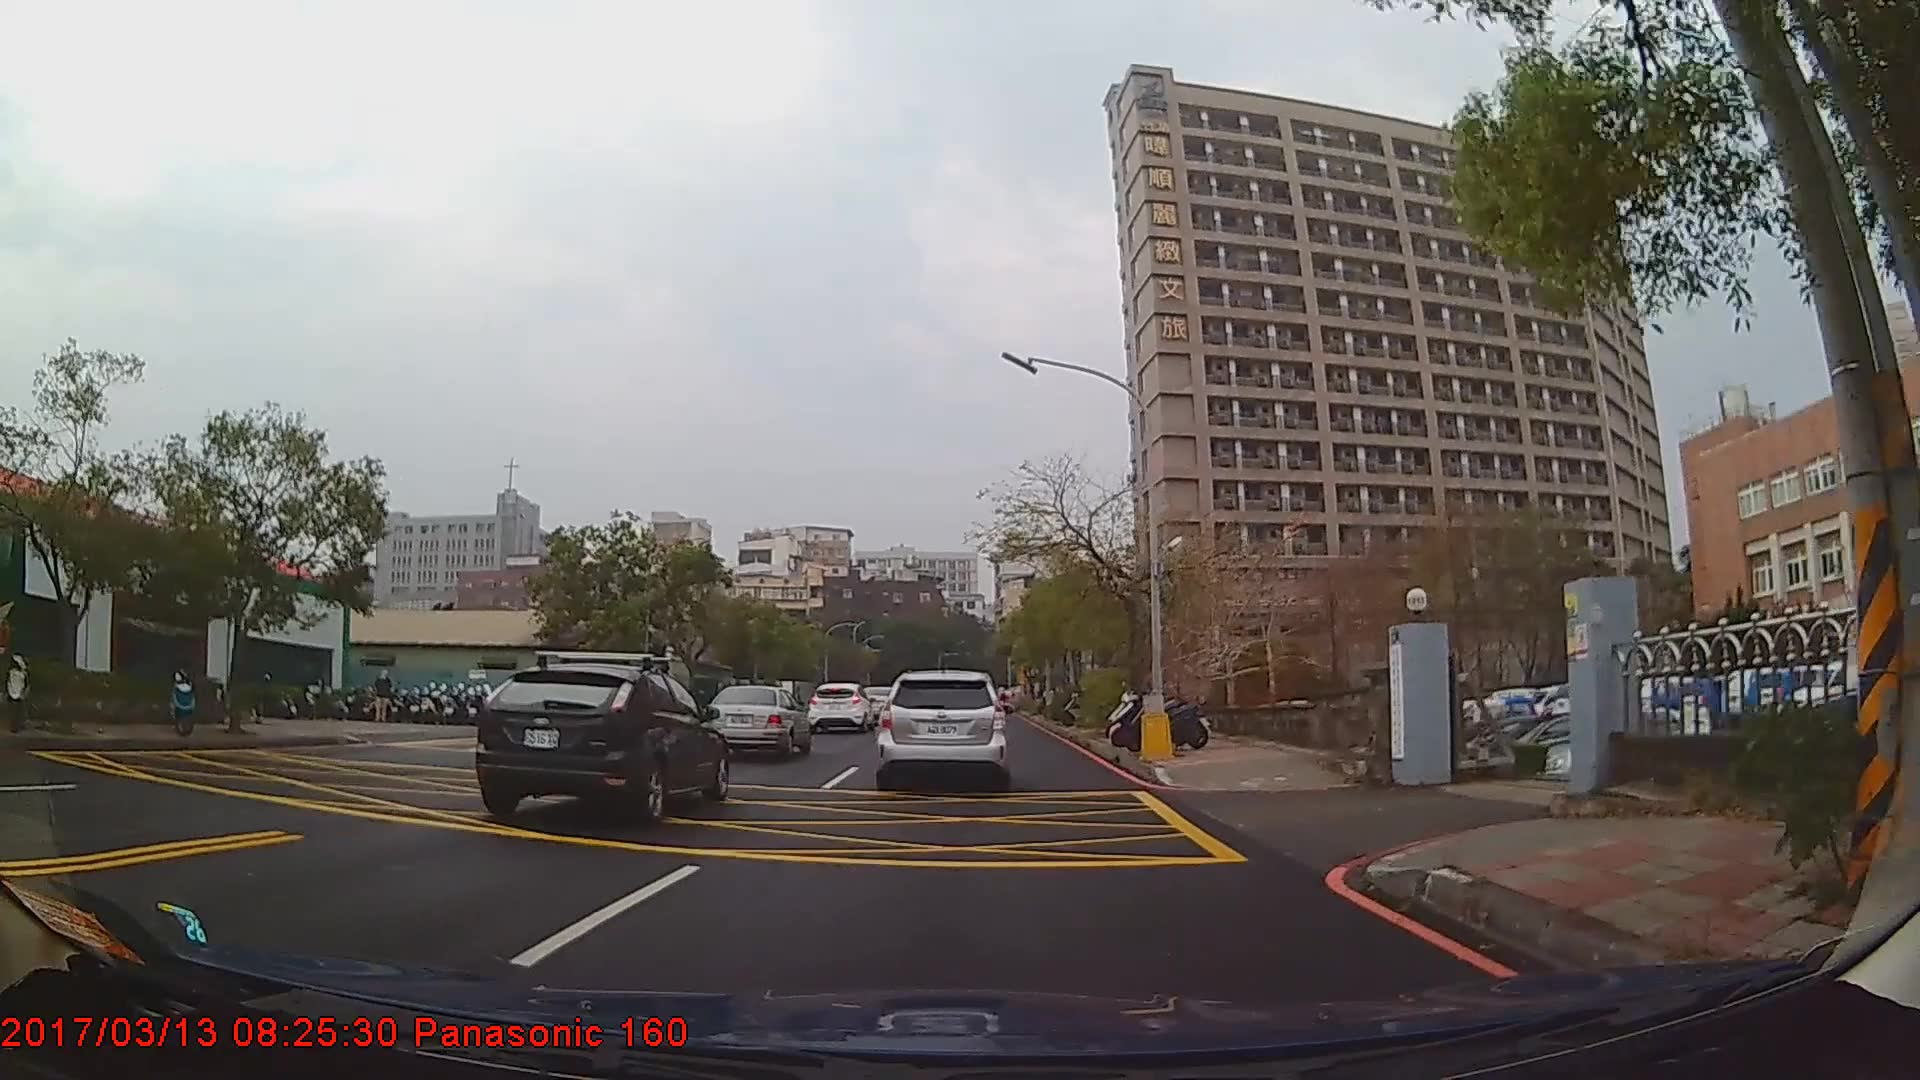pedestrian: (375, 670, 395, 725)
vehicle: (472, 663, 726, 824), (877, 670, 1006, 789), (704, 682, 811, 758), (807, 680, 873, 732)
